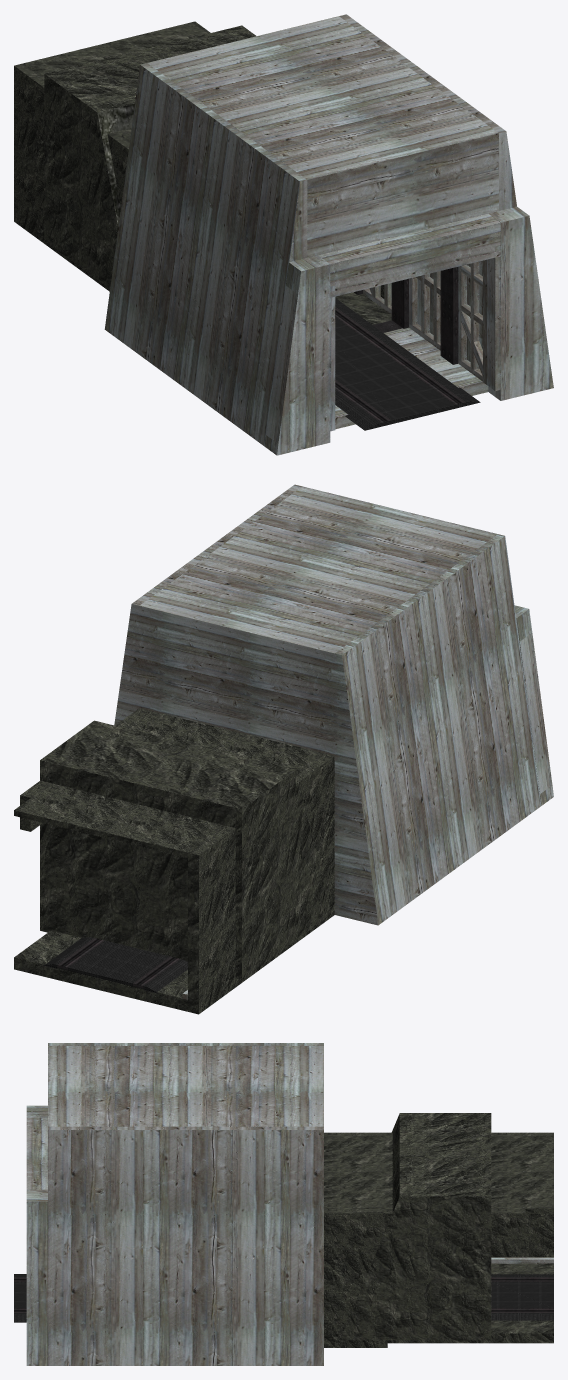
Rendered from caveminibase1.fbx.
The picture shows the model from 3 angles, top to bottom: view 1: azimuth 30°, elevation 25°; view 2: azimuth 150°, elevation 25°; view 3: azimuth 270°, elevation 25°; orthographic projection. The views are drawn at different scales.
Visible parts, largest first — view 1: Object; view 2: Object; view 3: Object.
Part boxes in pixels (bbox=[...]): Object: bbox=[14, 14, 553, 455]; Object: bbox=[14, 484, 553, 1014]; Object: bbox=[14, 1043, 553, 1365].
Size of the model in its own units: 3641 by 3219 by 7125.
